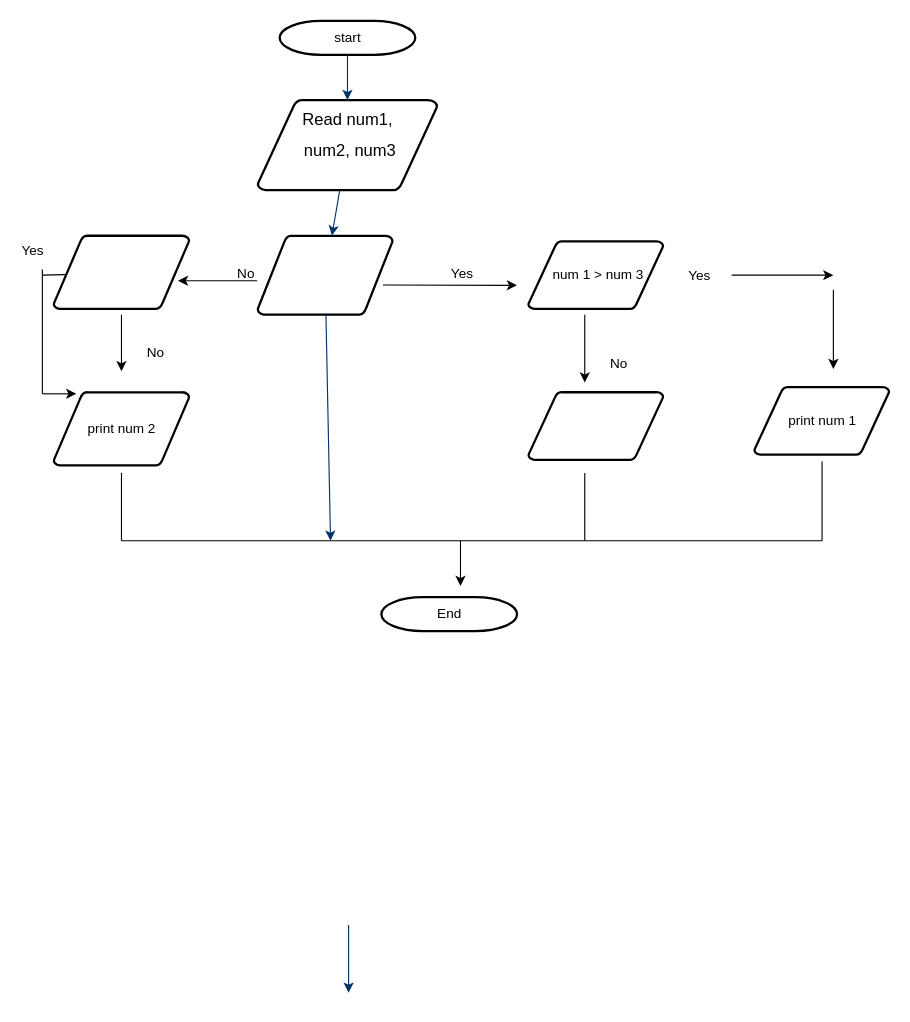
Image size: 910x1022. Some labels were removed from this diagram. Here are the shapes that lost their labels. From the top down, the centre of each, then its label:
At pixel 121 272: "num 2> num3".
At pixel 324 274: "num 1 > num 2".
At pixel 595 425: "print num 3".
